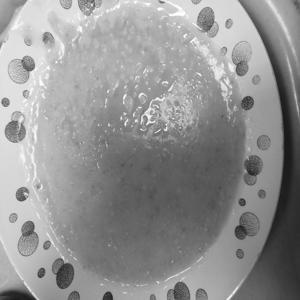porridge: (13, 13, 275, 282)
